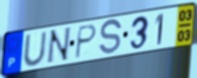1: (154, 12, 164, 46)
3: (128, 14, 153, 51)
N: (44, 26, 72, 66)
P: (73, 23, 99, 61)
S: (98, 17, 124, 57)
U: (22, 30, 48, 68)
